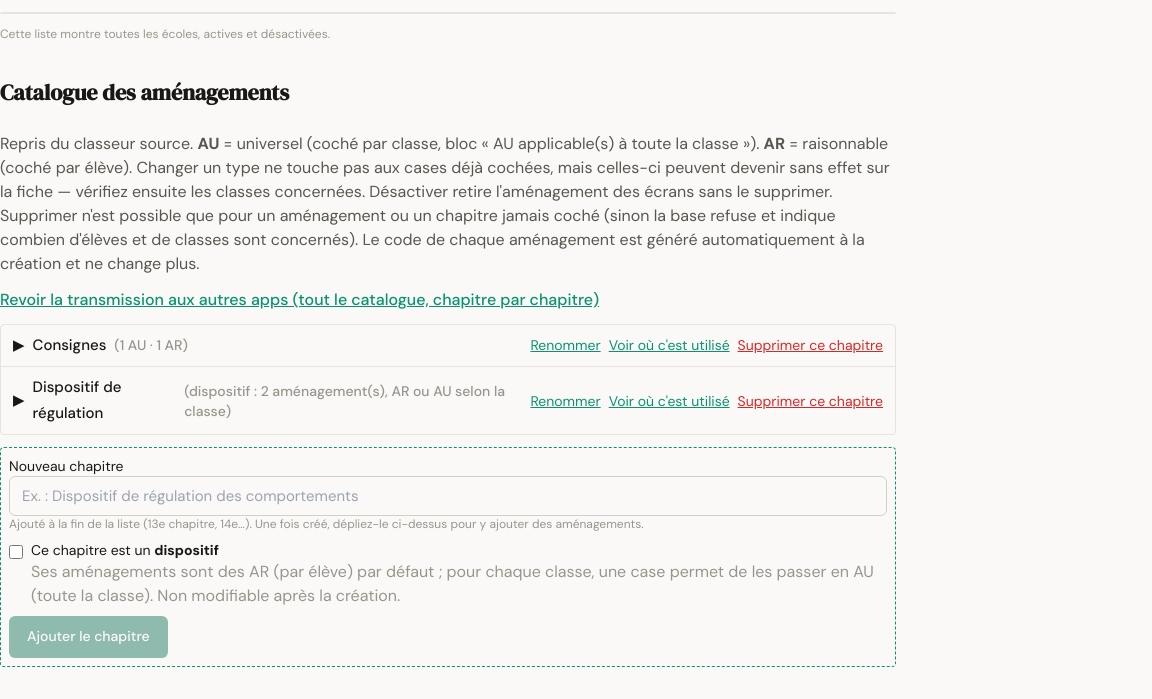
Test: Administration : où un aménagement est utilisé › jamais utilisé : message explicite
(page scrolled)
Click the 1st button "Voir où c'est utilisé" at (669, 345), box [609,335,730,355]
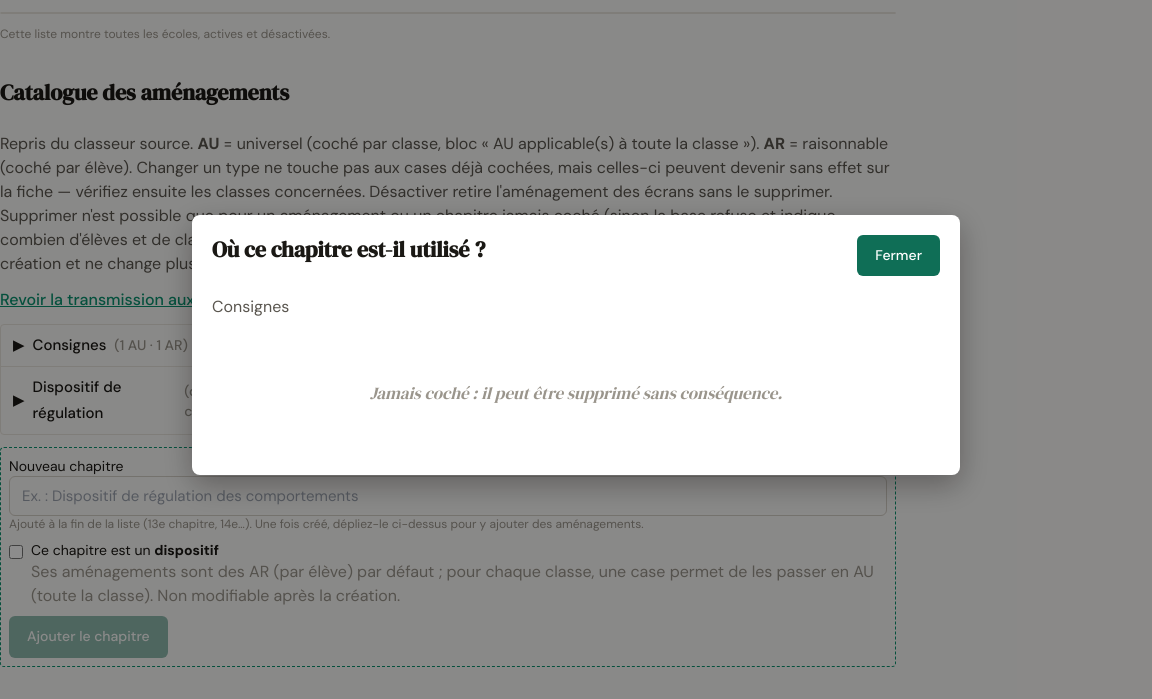
Expected: the text "Jamais coché : il peut être supprimé sans conséquence." is shown, [370,380,782,404]
